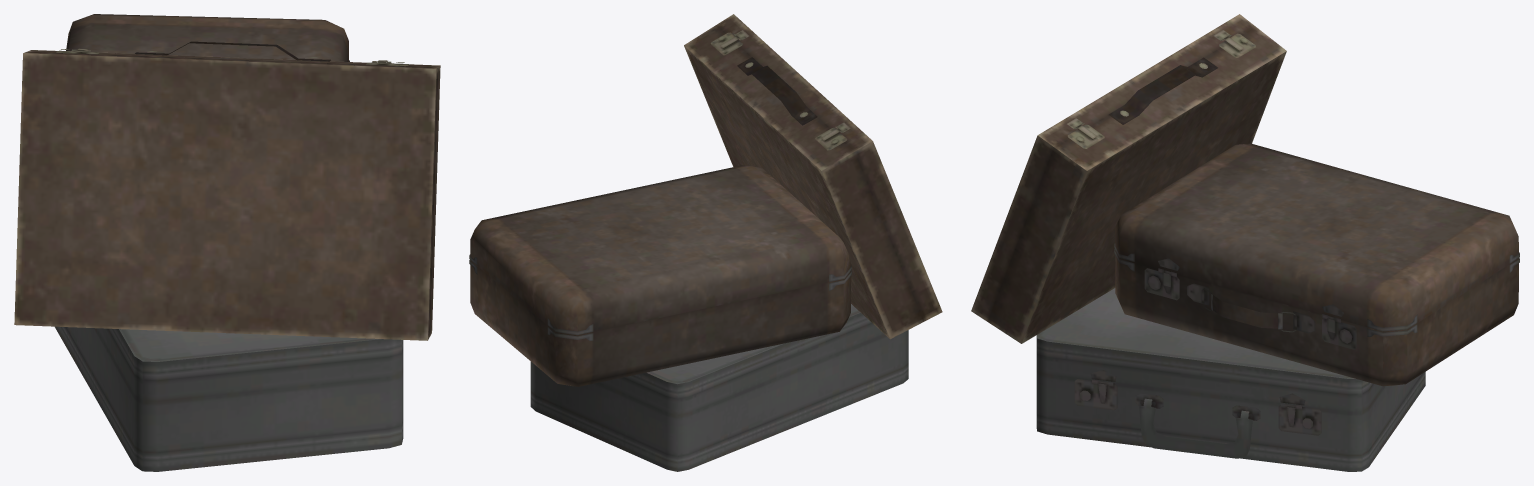
File: ItemSpot.fbx
3 views of the same model, side by side, from view 1: azimuth 30°, elevation 25°; view 2: azimuth 150°, elevation 25°; view 3: azimuth 270°, elevation 25° (orthographic). The views are drawn at different scales.
Visible parts, largest first — view 1: ItemBox_Suitcase_03, ItemBox_Suitcase_02, ItemBox_Suitcase_01; view 2: ItemBox_Suitcase_01, ItemBox_Suitcase_03, ItemBox_Suitcase_02; view 3: ItemBox_Suitcase_01, ItemBox_Suitcase_03, ItemBox_Suitcase_02.
Boxes of the visible parts, x1,y1,x2,y2 form: ItemBox_Suitcase_03: [14, 41, 440, 340]; ItemBox_Suitcase_02: [55, 326, 403, 471]; ItemBox_Suitcase_01: [66, 14, 349, 61]; ItemBox_Suitcase_01: [469, 165, 851, 386]; ItemBox_Suitcase_03: [684, 14, 942, 339]; ItemBox_Suitcase_02: [530, 304, 908, 471]; ItemBox_Suitcase_01: [1114, 143, 1519, 386]; ItemBox_Suitcase_03: [971, 14, 1286, 343]; ItemBox_Suitcase_02: [1036, 288, 1425, 471].
Bounding box in the file's own units: 1.27 × 0.977 × 1.55.
Materials: 1 (1 with a texture image).
